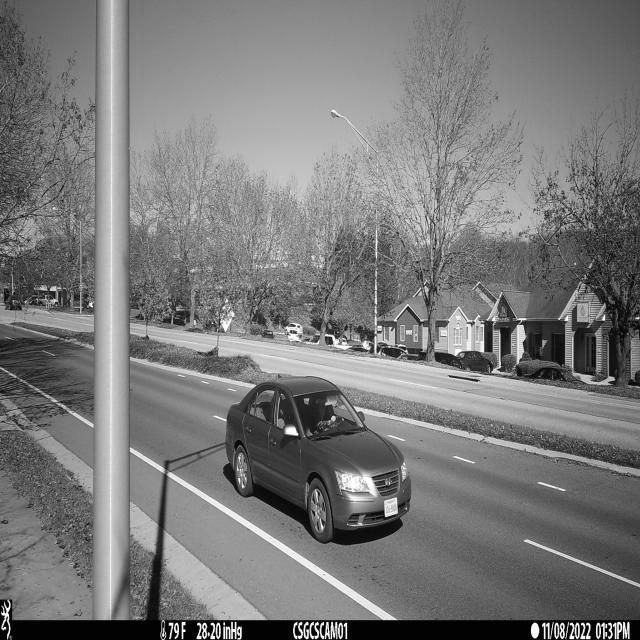Sedan: (225, 377, 412, 544)
